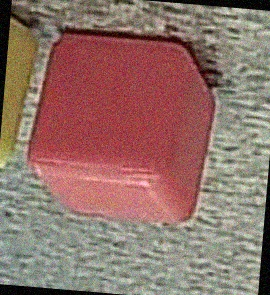orange_cube: (30, 16, 231, 237)
